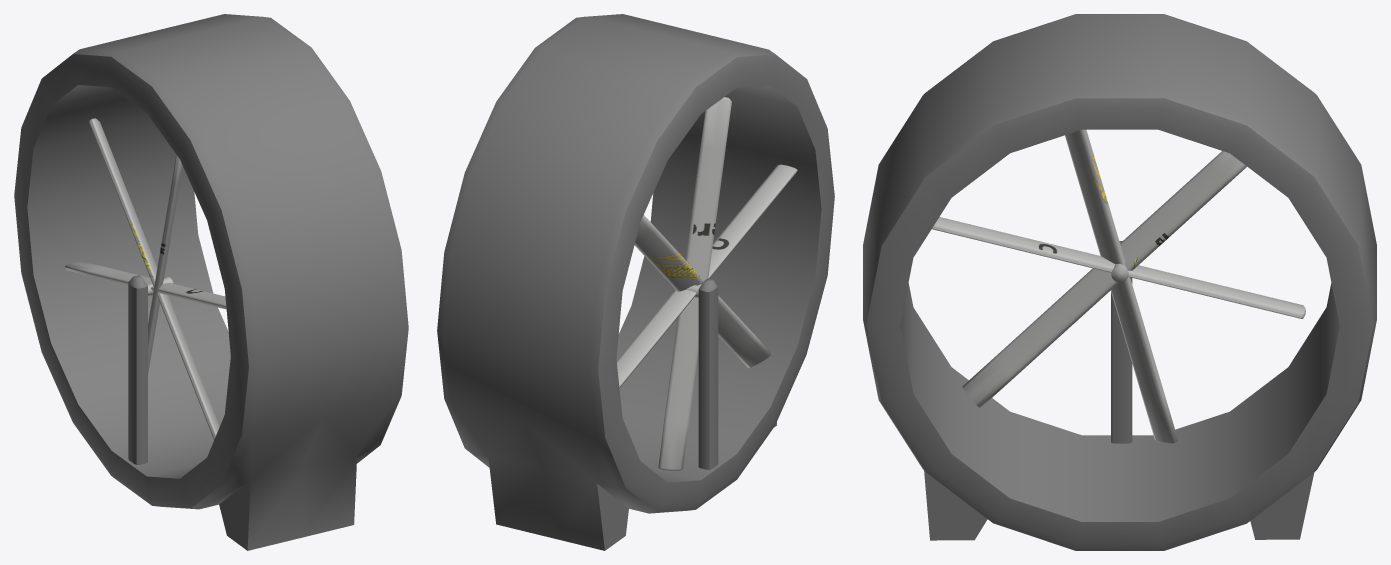
File: Fan.fbx
3 renders of one model, left to right at view 1: azimuth 30°, elevation 25°; view 2: azimuth 150°, elevation 25°; view 3: azimuth 270°, elevation 25°, orthographic. The views are drawn at different scales.
Visible parts, largest first — view 1: Tube001, Object001; view 2: Tube001, Object001; view 3: Tube001, Object001.
Boxes of the visible parts, x1,y1,x2,y2 form: Tube001: (14,14,408,550); Object001: (65,118,226,439); Tube001: (437,14,834,550); Object001: (616,97,797,470); Tube001: (863,14,1376,550); Object001: (932,129,1305,443).
Bounding box in the file's own units: 8.2 × 20.16 × 20.47.
2 materials, 1 textured.
